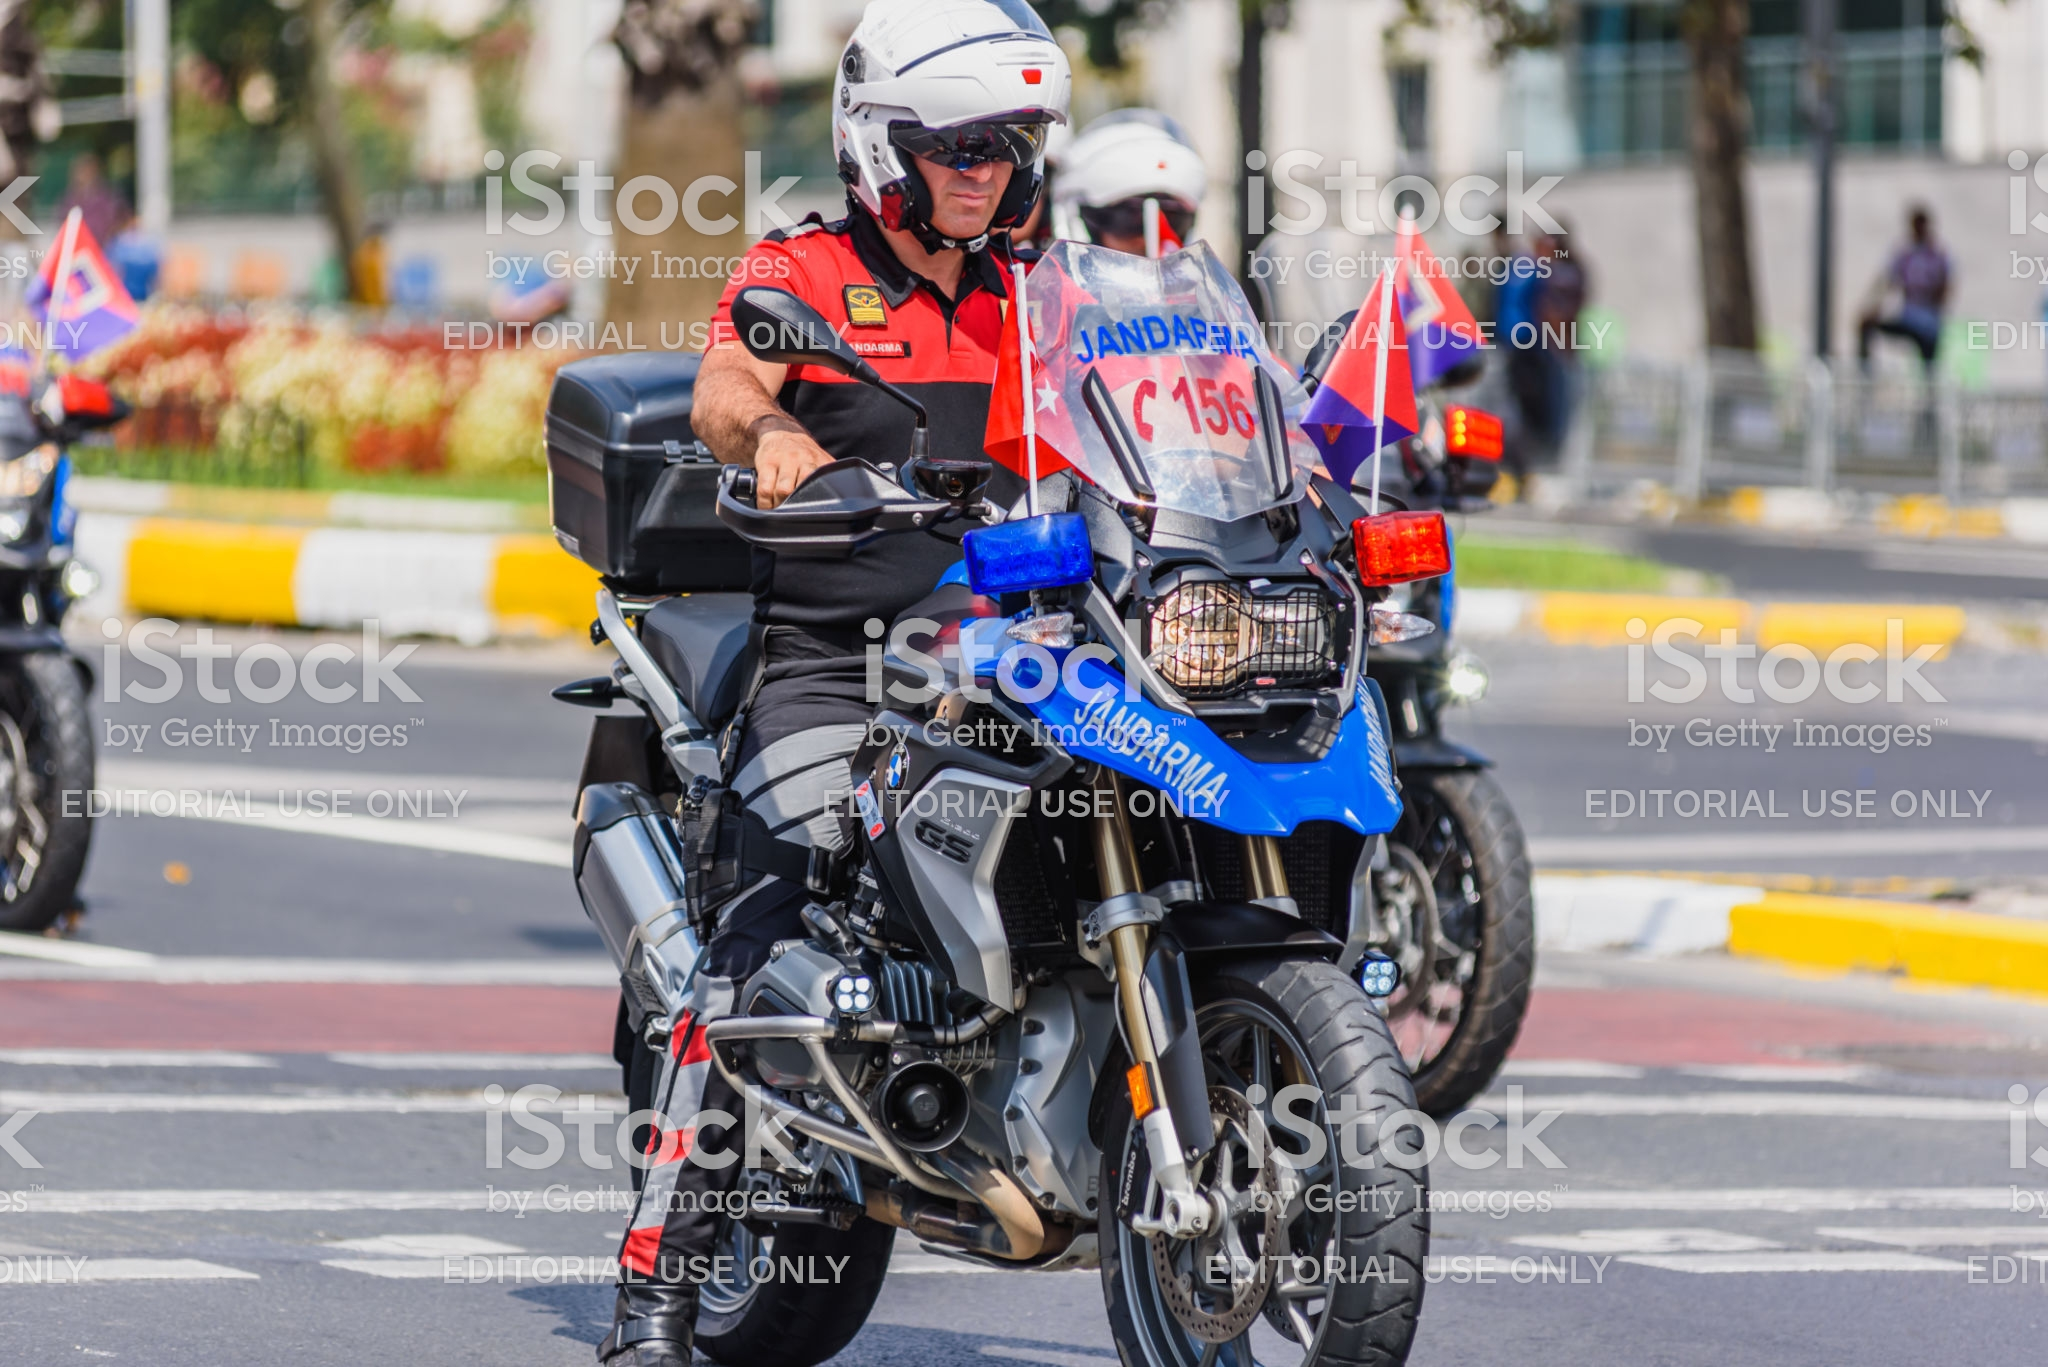helmet: (823, 14, 1077, 188)
